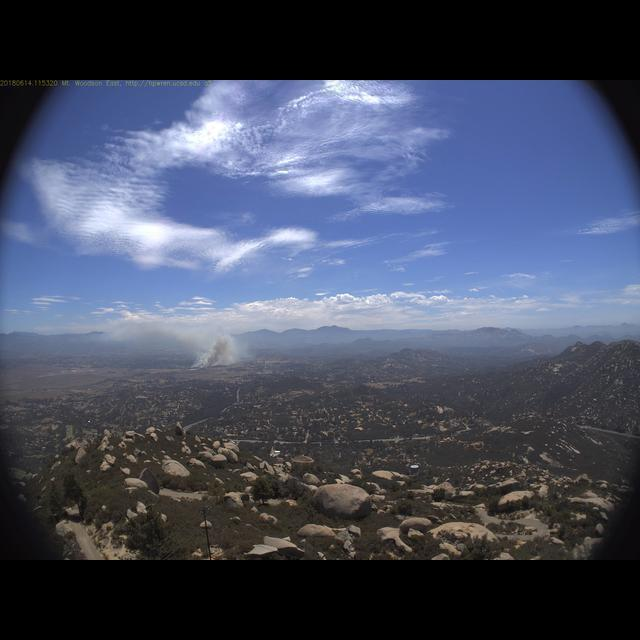Smoke: (109, 311, 247, 373)
